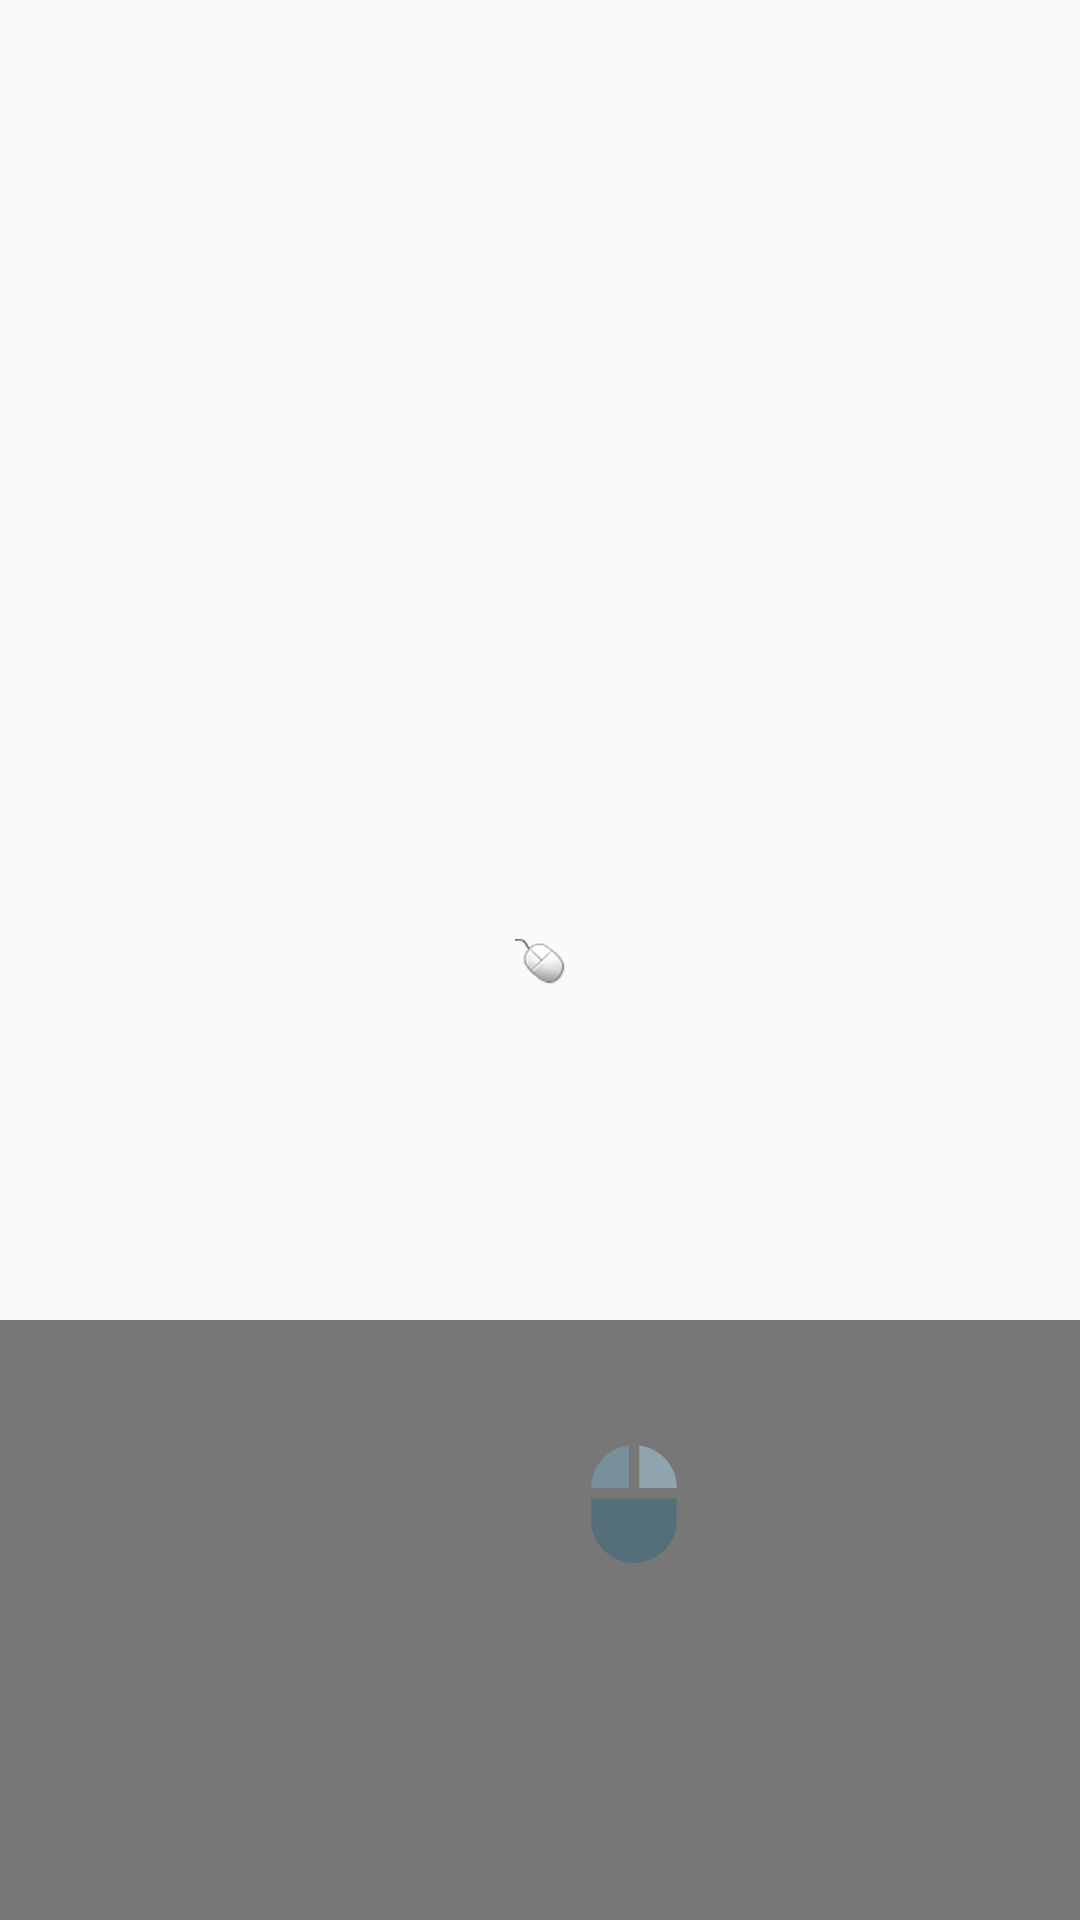

Icons on this 1080px x 1920px Android screen, each with its box as (x1, y1, x2, y2):
cursor: (515, 939, 565, 984)
